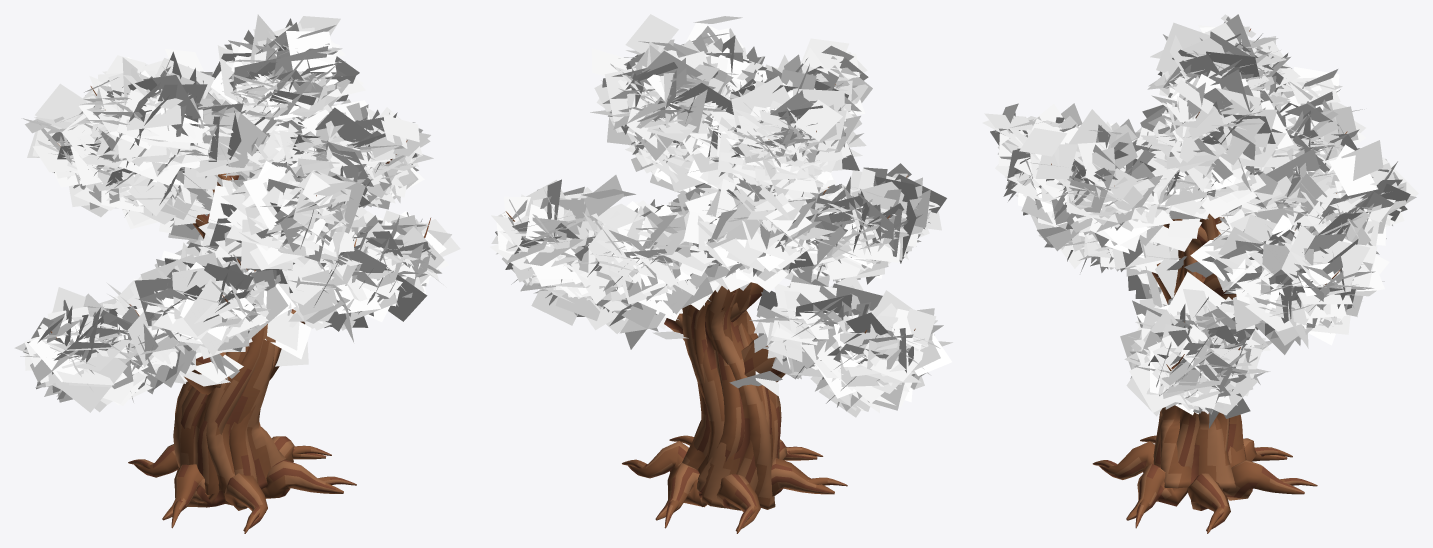
Rendered from eggydrasil-v8-planes-no-texture.glb.
3 renders of one model, left to right at view 1: azimuth 30°, elevation 25°; view 2: azimuth 150°, elevation 25°; view 3: azimuth 270°, elevation 25°, orthographic.
Visible parts, largest first — view 1: Canopy_White, Canopy_Gray, Wood_V4; view 2: Canopy_White, Canopy_Gray, Wood_V4; view 3: Canopy_White, Canopy_Gray, Wood_V4.
Part boxes in pixels (x1,y1,x2,y2): Canopy_White: (14, 14, 451, 412); Canopy_Gray: (20, 16, 460, 412); Wood_V4: (50, 86, 430, 533); Canopy_White: (490, 14, 952, 417); Canopy_Gray: (491, 38, 940, 412); Wood_V4: (505, 84, 915, 533); Canopy_White: (982, 14, 1418, 418); Canopy_Gray: (984, 21, 1416, 428); Wood_V4: (1051, 28, 1347, 533).
Bounding box in the file's own units: 49.49 × 50.76 × 44.59.
